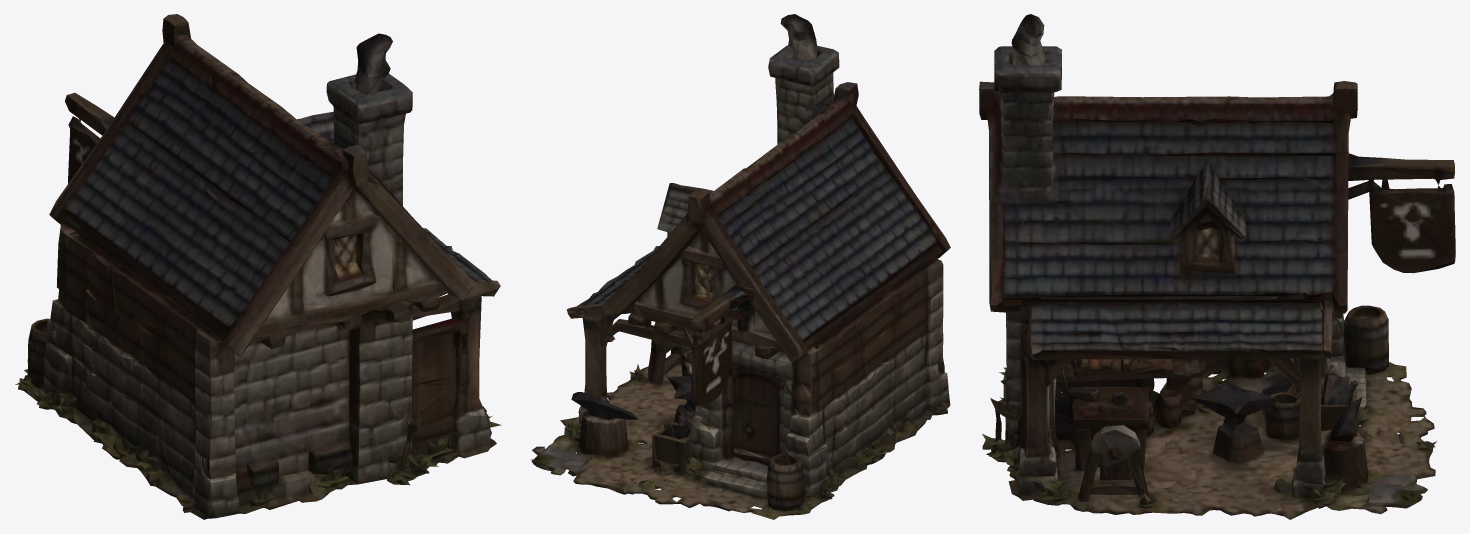
File: war_blacksmith_01.glb
The picture shows the model from 3 angles, left to right: view 1: azimuth 30°, elevation 25°; view 2: azimuth 150°, elevation 25°; view 3: azimuth 270°, elevation 25°; orthographic projection. The views are drawn at different scales.
Visible parts, largest first — view 1: geometry_0; view 2: geometry_0; view 3: geometry_0.
Boxes of the visible parts, left/top/right/bottom form: geometry_0: left=15, top=14, right=501, bottom=519; geometry_0: left=531, top=14, right=950, bottom=519; geometry_0: left=979, top=14, right=1455, bottom=519.
Size of the model in its own units: 0.8344 by 0.998 by 0.9983.
Materials: 1 (1 with a texture image).
